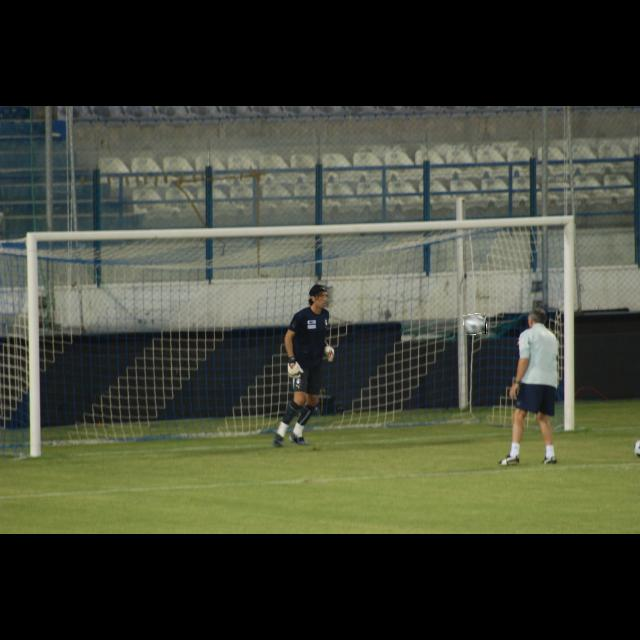Football: (464, 314, 486, 334)
